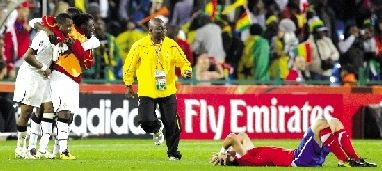10+: (1, 1, 382, 171)
down: (210, 110, 378, 169)
